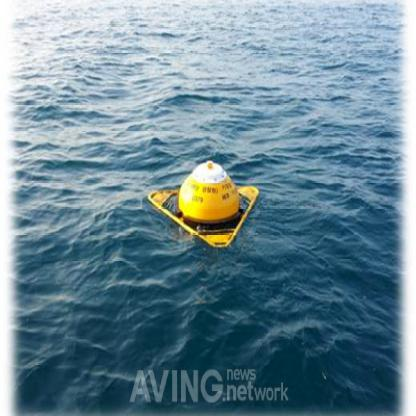buoy: (142, 156, 268, 257)
